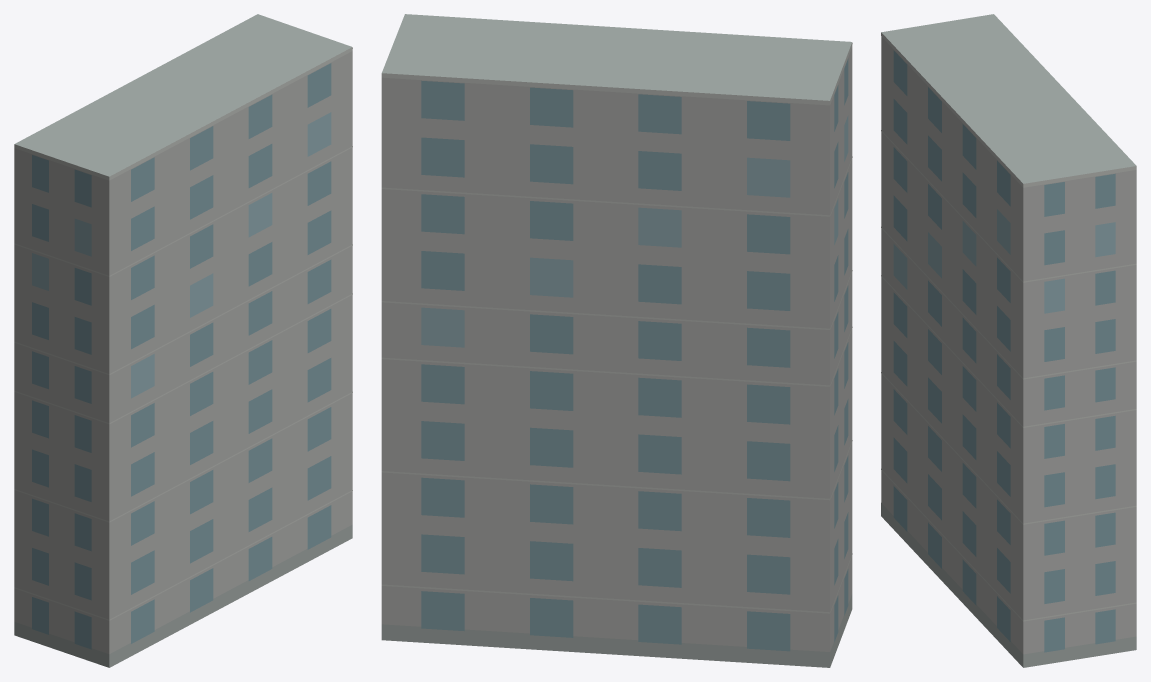
Rendered from survey-upis-32747961.glb.
3 views of the same model, side by side, from view 1: azimuth 30°, elevation 25°; view 2: azimuth 150°, elevation 25°; view 3: azimuth 270°, elevation 25° (orthographic). The views are drawn at different scales.
Visible parts, largest first — view 1: survey-upis-32747961.tmp; view 2: survey-upis-32747961.tmp; view 3: survey-upis-32747961.tmp.
Part boxes in pixels (x1,y1,x2,y2): survey-upis-32747961.tmp: (14,14,352,667); survey-upis-32747961.tmp: (381,14,852,667); survey-upis-32747961.tmp: (881,14,1136,667).
Size of the model in its own units: 22.98 by 30.5 by 14.62.
